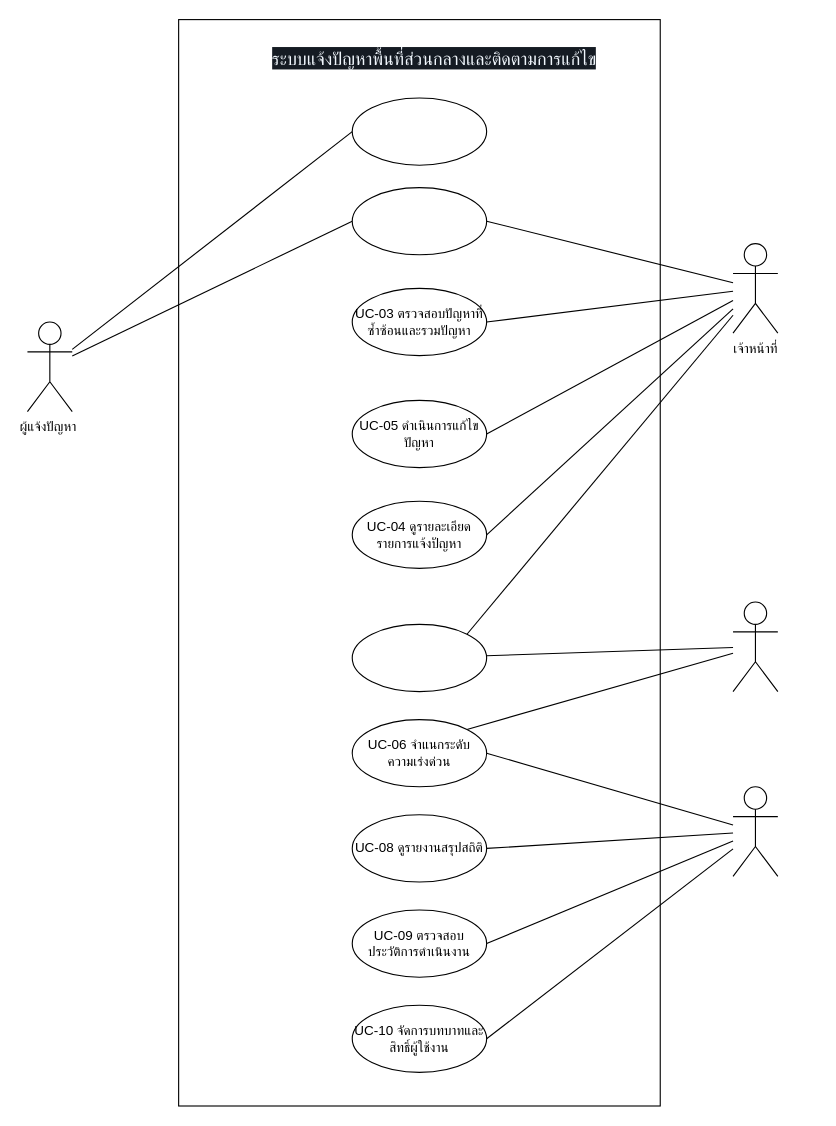
Image size: 836x1126. Some labels were removed from this diagram. Each missing label, with the centre of its shape:
"UC-01 การแจ้งปัญหาพื่นที่ส่งนกลาง" belongs at (x=419, y=220).
"UC-02 ติดตามสถานะและผลดำเนินการ" belongs at (x=419, y=131).
"UC-07 มอบหมายหรือโอนย้ายงาน" belongs at (x=419, y=657).
"ผู้ดูแลระบบ" belongs at (x=755, y=831).
"ผู้ดูแลรักษาความปลอดภัย" belongs at (x=755, y=646).
